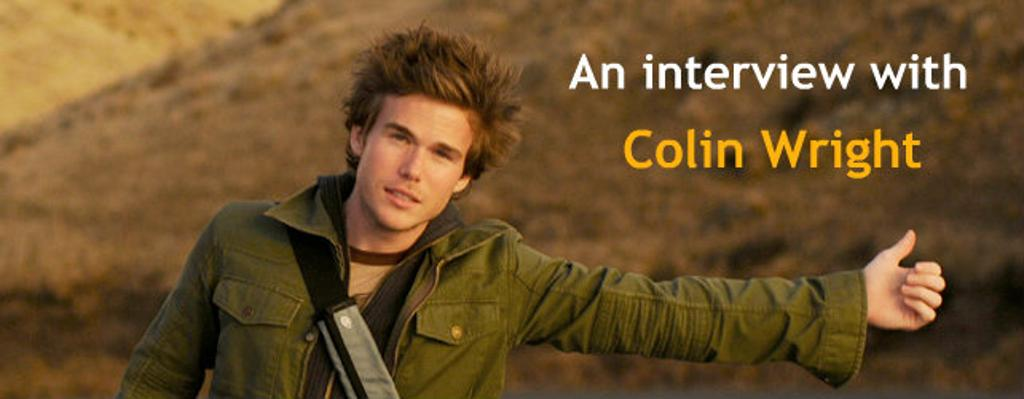face: (354, 94, 464, 226)
